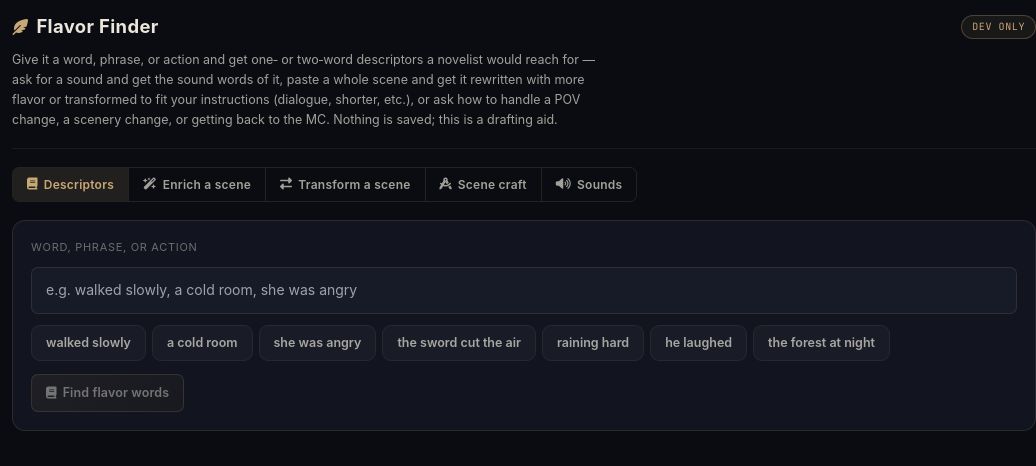
Test: FlavorFinder — craft response without descriptors › renders a descriptors result that is missing fields instead of crashing
This screenshot has width=1036, height=466.
Type "walked slowly" into the field labelled "Word, phrase, or action" at (524, 290), box [31,267,1017,314]
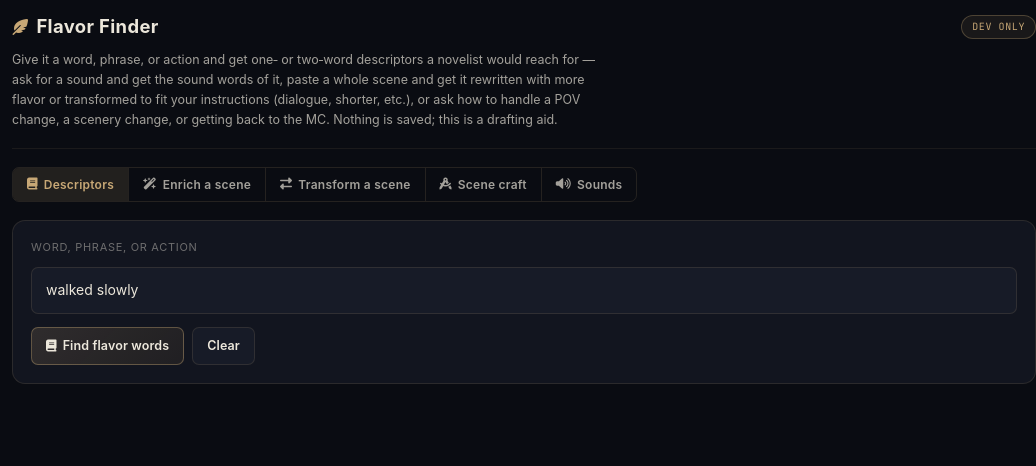
Click the button "Find flavor words" at (108, 346), box [31,327,184,365]
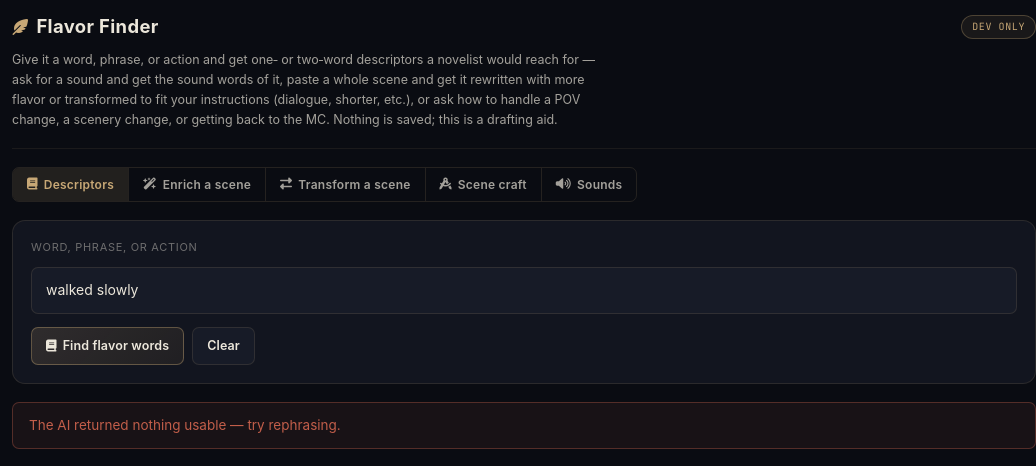
Expected: the text "The AI returned nothing usable — try rephrasing." is shown, [12,402,1035,449]
